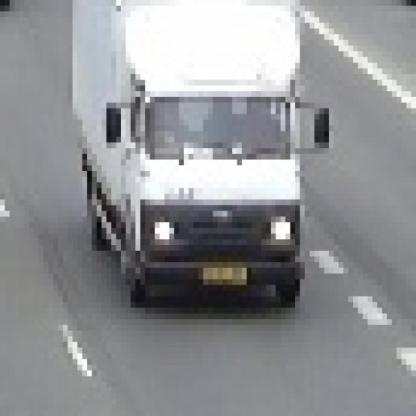truck: (63, 1, 324, 308)
